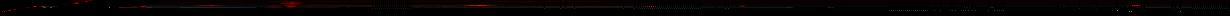Blue cone: (25, 7, 31, 8), (12, 9, 18, 10)
Yellow cone: (280, 1, 302, 8), (738, 5, 747, 7), (139, 6, 147, 8)
